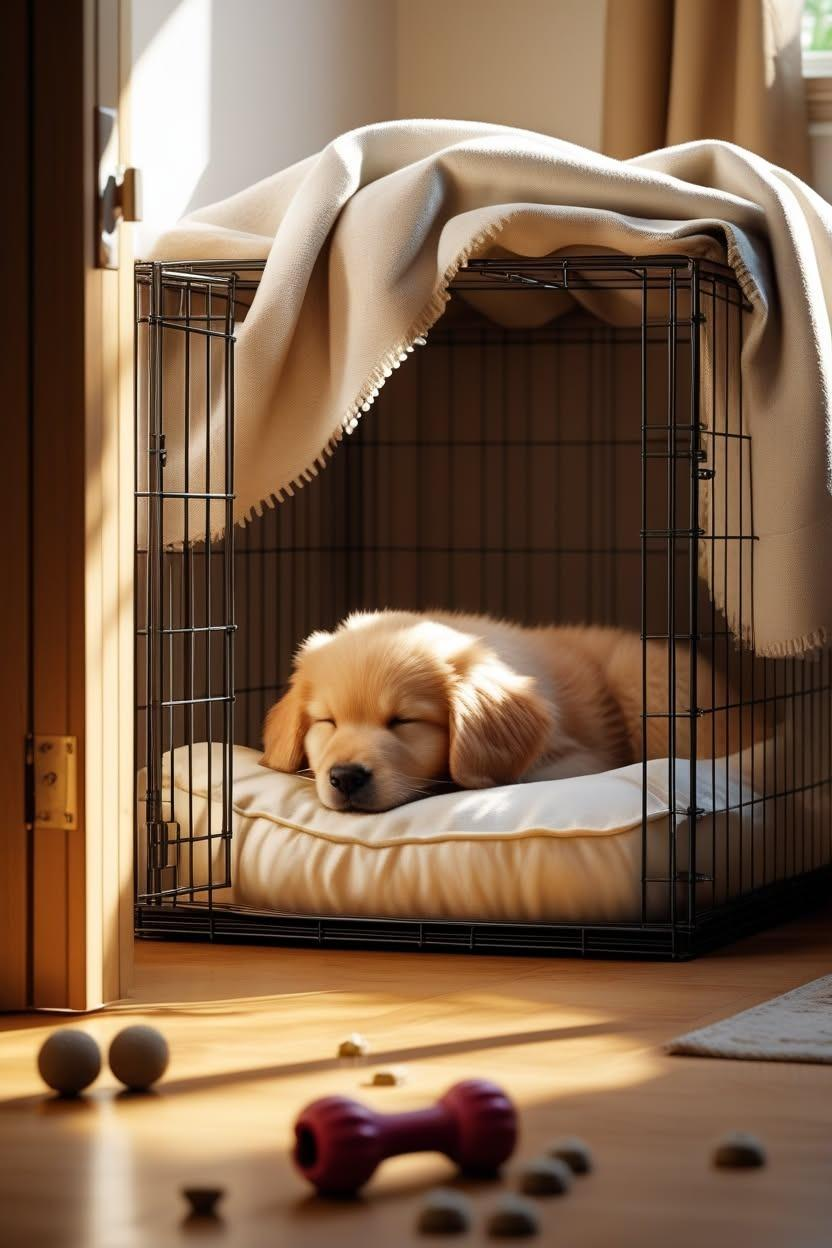puppy-dog: (258, 608, 741, 812)
